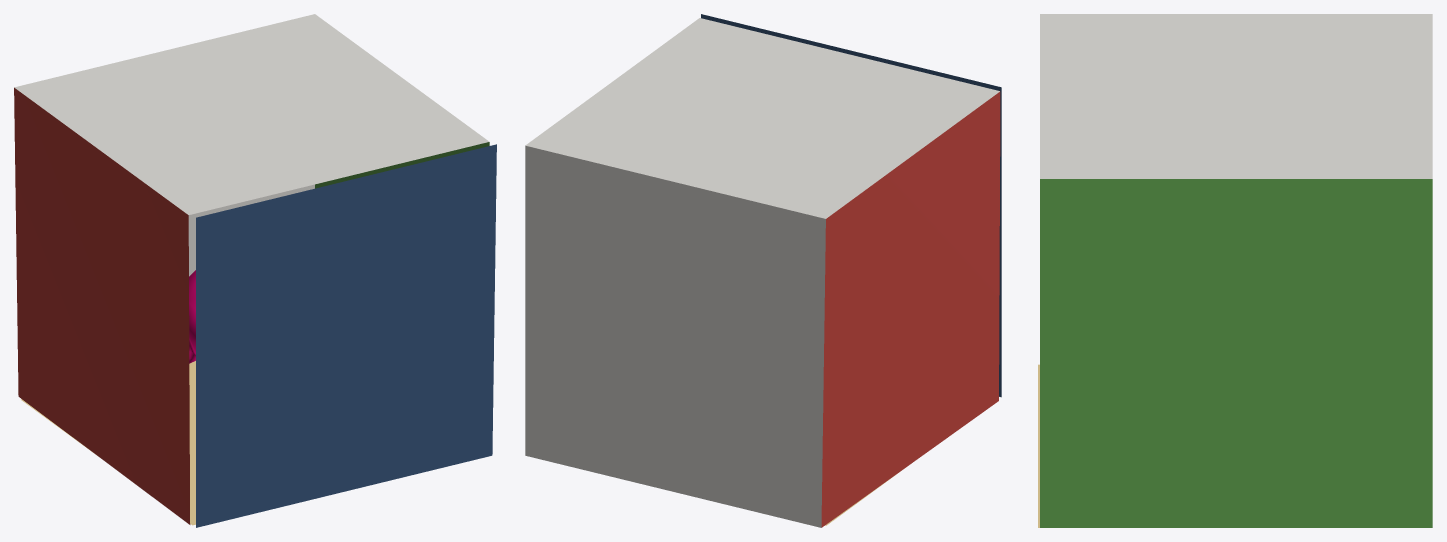
File: boxge.glb
The picture shows the model from 3 angles, left to right: view 1: azimuth 30°, elevation 25°; view 2: azimuth 150°, elevation 25°; view 3: azimuth 270°, elevation 25°; orthographic projection. The views are drawn at different scales.
Visible parts, largest first — view 1: Object_2.001, Object_5, Object_3, Plane, Object_2, Object_7, Suzanne; view 2: Object_2, Object_5, Object_3, Object_2.001; view 3: Object_7, Object_3.
Boxes of the visible parts, left/top/right/bottom form: Object_2.001: left=196, top=144, right=496, bottom=527; Object_5: left=14, top=87, right=190, bottom=524; Object_3: left=14, top=14, right=489, bottom=214; Plane: left=21, top=361, right=195, bottom=525; Object_2: left=188, top=184, right=314, bottom=276; Object_7: left=315, top=142, right=489, bottom=188; Suzanne: left=189, top=270, right=195, bottom=363; Object_2: left=525, top=145, right=825, bottom=527; Object_5: left=821, top=91, right=1000, bottom=527; Object_3: left=525, top=18, right=999, bottom=218; Object_2.001: left=701, top=14, right=1001, bottom=397; Object_7: left=1040, top=179, right=1432, bottom=527; Object_3: left=1040, top=14, right=1432, bottom=178.
Size of the model in its own units: 2.04 by 1.99 by 2.08.
